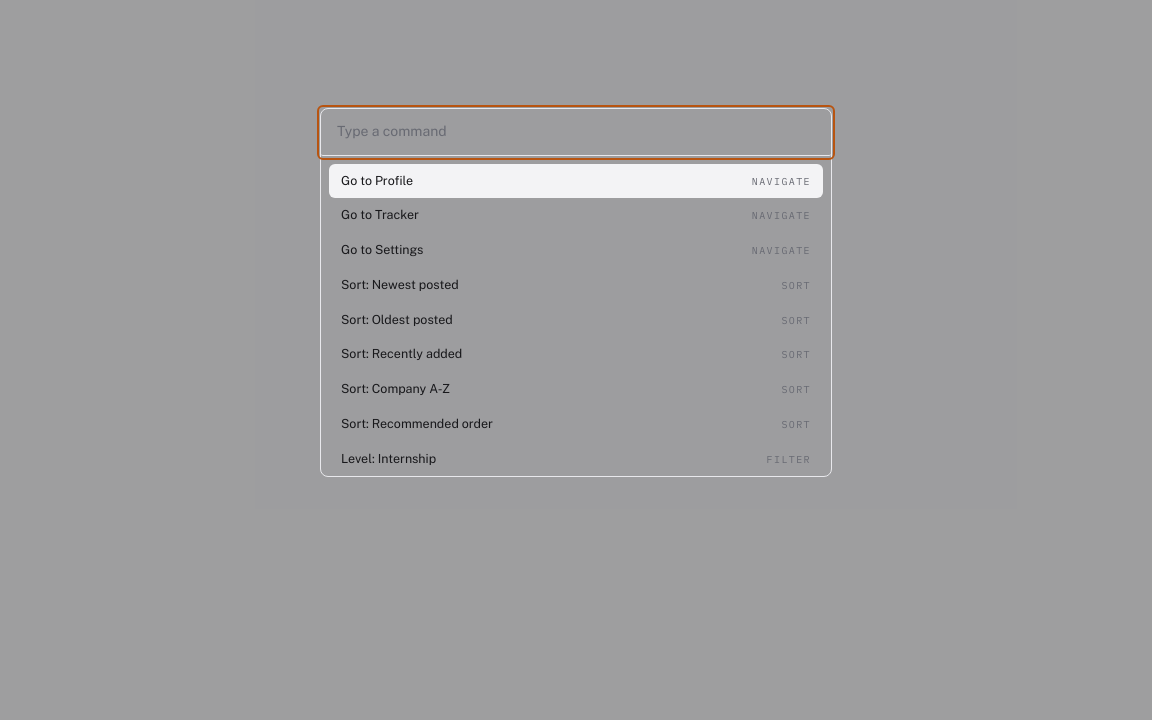
Scenario: CommandPalette commands › filters the list as the query narrows it
The image size is (1152, 720).
Type "profile" into the field labelled "Type a command" at (576, 132), box 321,109 -> 831,156
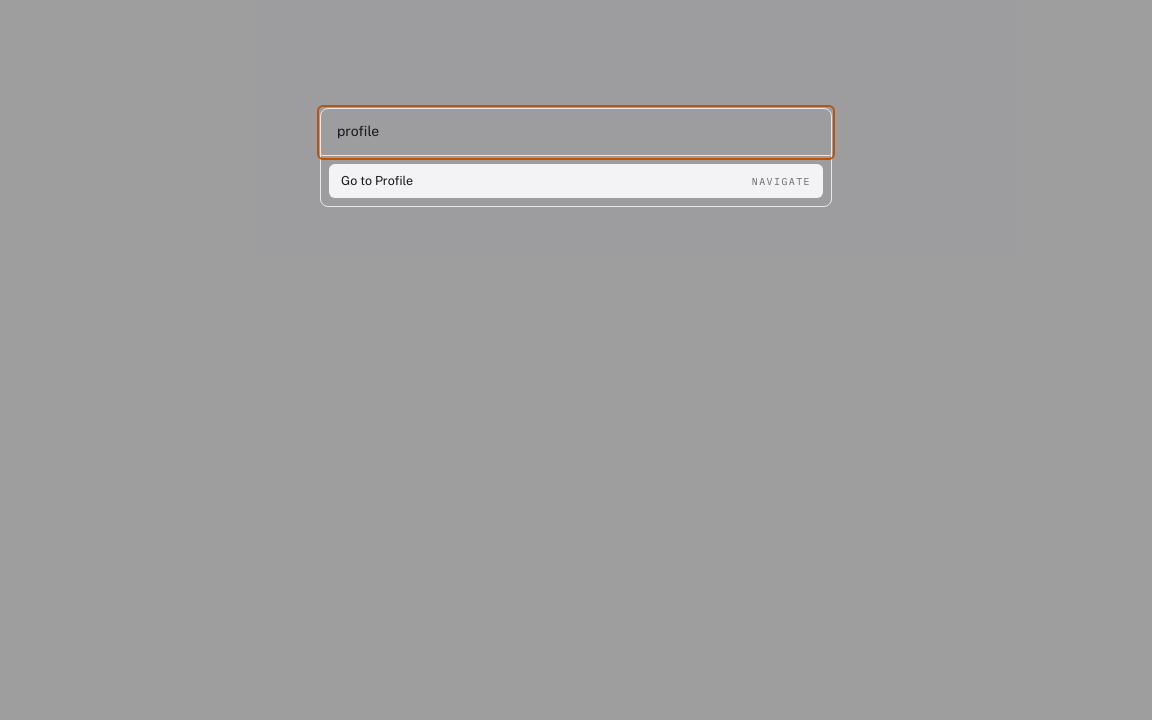
Expected: the option "Go to Profile Navigate" is shown, 329,164 -> 823,198
Expected: the option "Go to Settings" is gone
